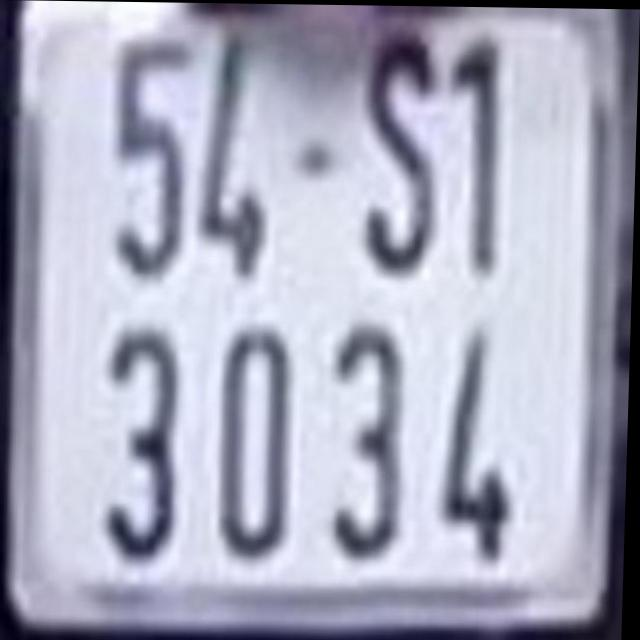0: (220, 322, 295, 559)
1: (449, 38, 507, 278)
3: (106, 326, 185, 558), (331, 321, 407, 562)
4: (443, 322, 521, 563), (198, 33, 272, 275)
5: (110, 34, 191, 275)
S: (361, 31, 440, 276)
